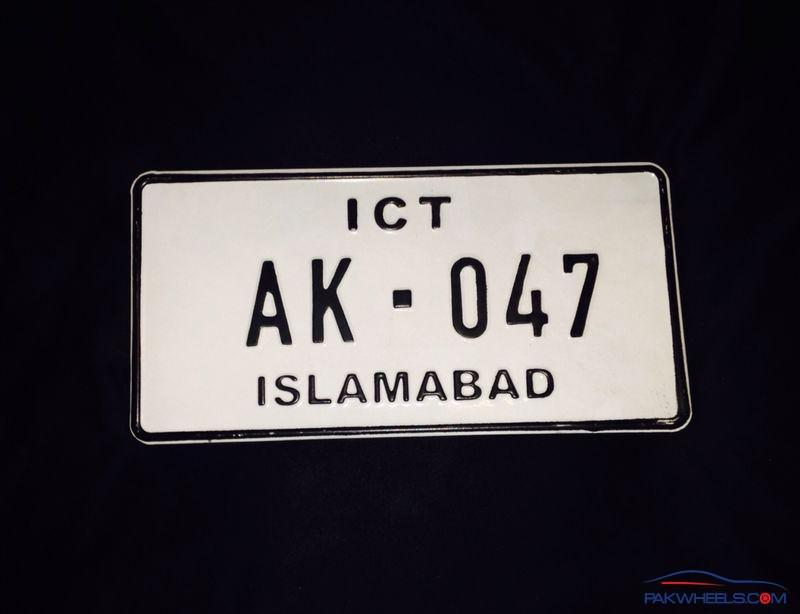plate: (119, 158, 701, 449)
